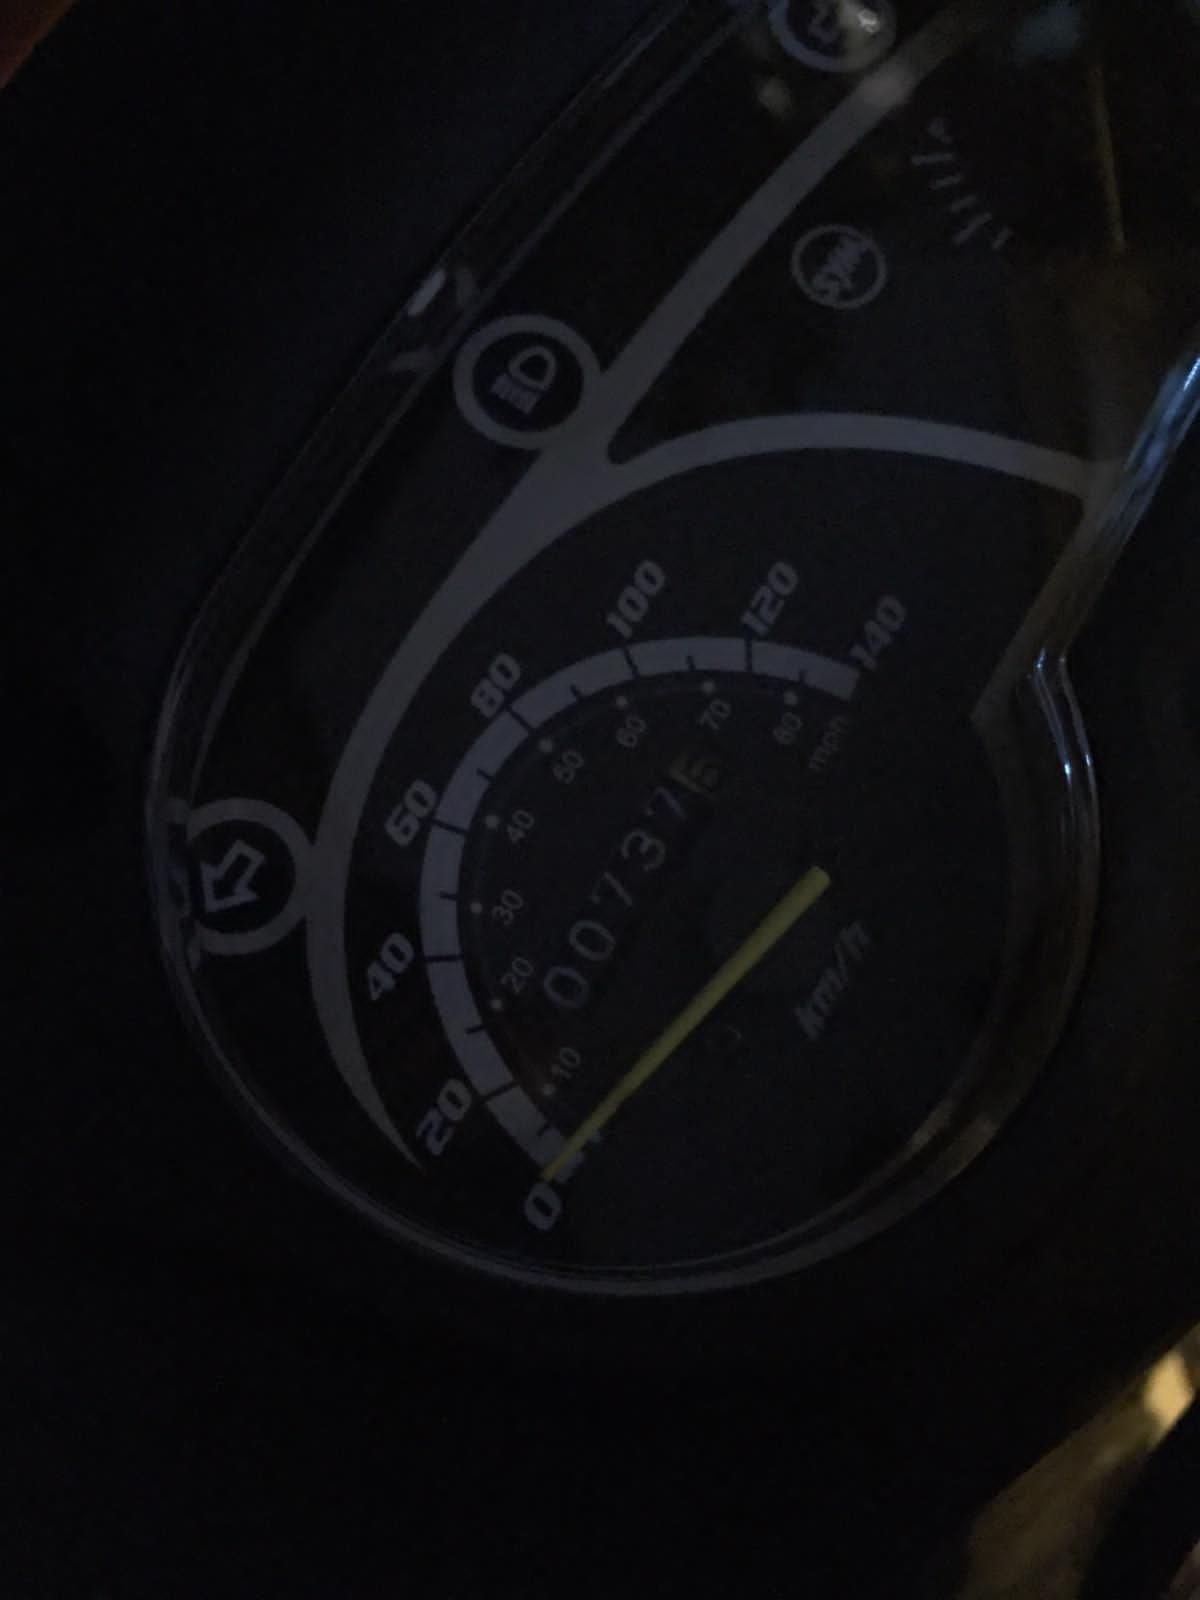0: (568, 921, 621, 963), (543, 968, 589, 1012), (514, 954, 537, 978), (514, 806, 537, 828), (561, 750, 585, 769)
3: (615, 826, 671, 871)
5: (551, 763, 577, 784)
6: (676, 753, 727, 789)
7: (586, 871, 637, 911), (640, 787, 689, 825)
odometer: (513, 742, 740, 1026)
